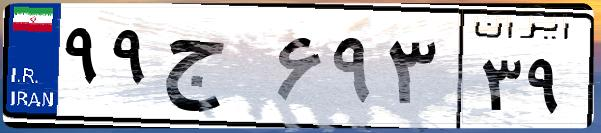3: (385, 28, 445, 110), (475, 38, 525, 113)
6: (270, 28, 330, 110)
9: (330, 28, 385, 110), (57, 26, 110, 100), (525, 38, 570, 115), (110, 28, 158, 98)
ج: (158, 20, 270, 120)
